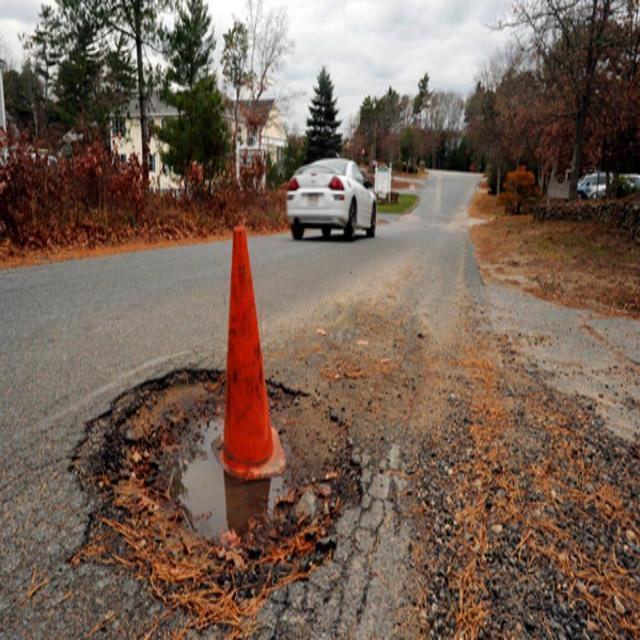Pothole: (77, 372, 361, 622)
